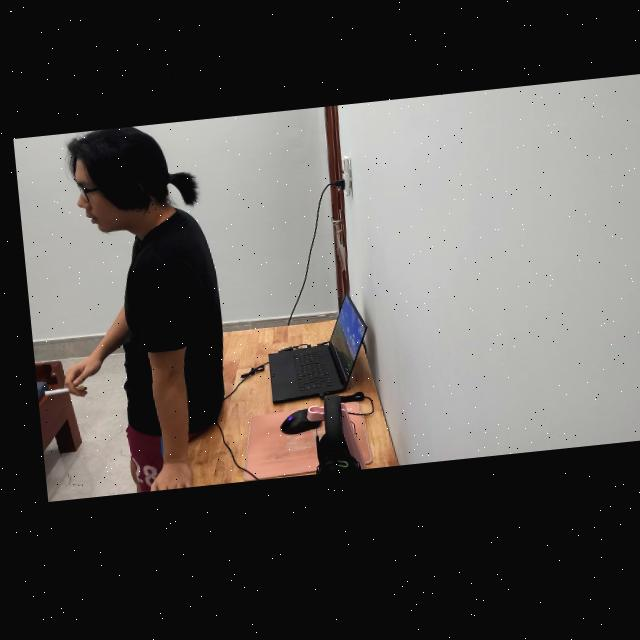cigarette: (36, 386, 76, 396)
